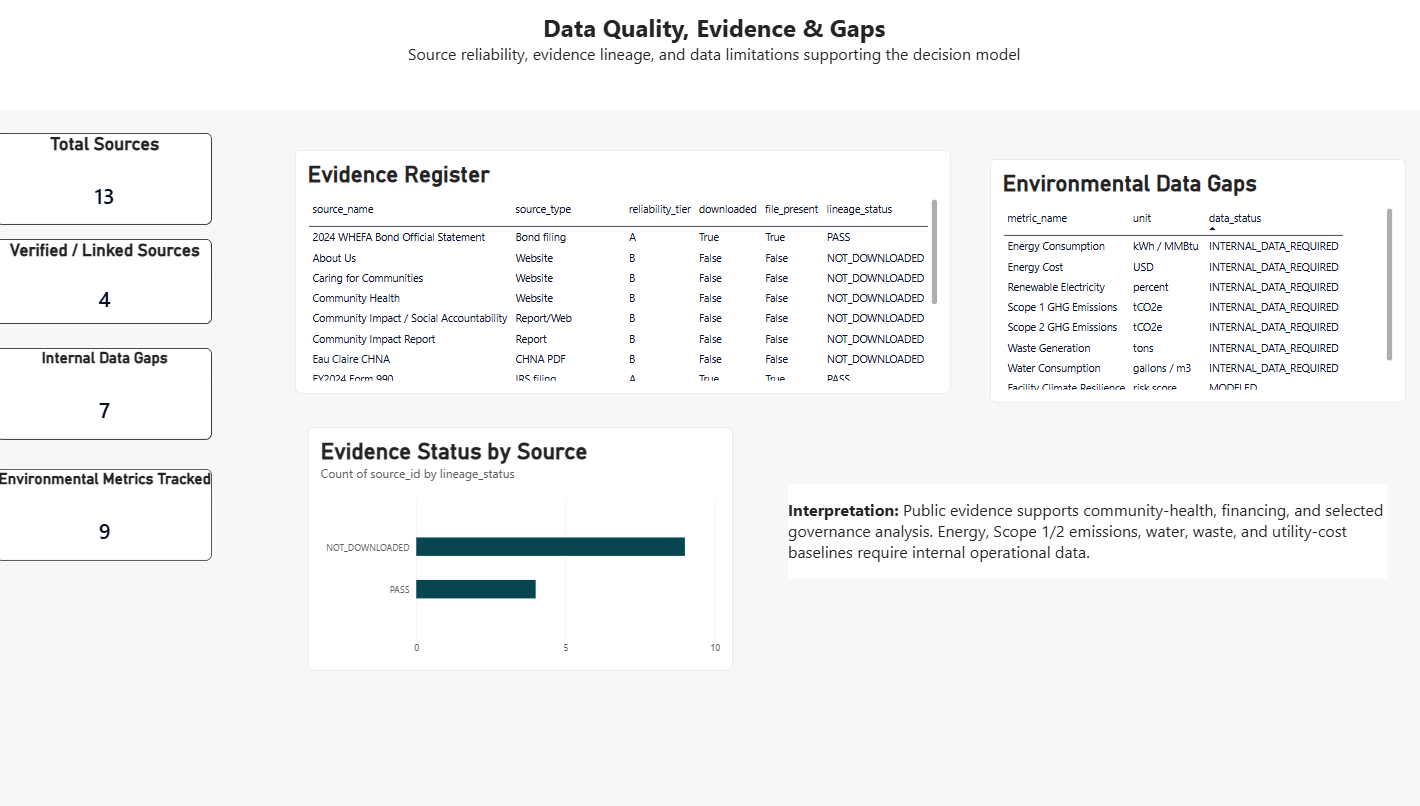

Layout of this report page (visuals, bound fields, positions):
{"tool":"powerbi","page":{"name":"Data Quality, Evidence & Gaps","canvas":[1920,1080],"ordinal":4},"visuals":[{"type":"textbox","box":[9.6,0,1910.4,151.1],"z":0},{"type":"cardVisual","title":"Total Sources","fields":{"Data":["Data_Quality.Total Sources"]},"box":[9.9,182.3,287.4,121.5],"z":1000},{"type":"cardVisual","title":"Verified / Linked Sources","fields":{"Data":["Data_Quality.Verified Sources"]},"box":[9.9,323.6,287.4,113.3],"z":2000},{"type":"cardVisual","title":"Internal Data Gaps","fields":{"Data":["Data_Quality.Internal Data Gaps"]},"box":[9.9,468.1,287.4,121.5],"z":3000},{"type":"tableEx","title":"Evidence Register","fields":{"Values":["Data_Quality.source_name","Data_Quality.source_type","Data_Quality.reliability_tier","Data_Quality.downloaded","Data_Quality.file_present","Data_Quality.lineage_status"]},"box":[407.3,205.3,872.1,323.6],"z":5000},{"type":"cardVisual","title":"Environmental Metrics Tracked","fields":{"Data":["Data_Quality.Environmental Metrics Tracked"]},"box":[9.9,629.1,287.4,121.5],"z":10000},{"type":"textbox","box":[1062.7,648.8,796.6,126.5],"z":11000},{"type":"tableEx","title":"Environmental Data Gaps","fields":{"Values":["environmental_data_gap.metric_name","environmental_data_gap.unit","environmental_data_gap.data_status"]},"box":[1332,216.8,553.5,323.6],"z":11001},{"type":"clusteredBarChart","title":"Evidence Status by Source","fields":{"Category":["Data_Quality.lineage_status"],"Y":["CountNonNull(Data_Quality.source_id)"]},"box":[423.7,573.2,565,323.6],"z":11002}]}

Visuals, with their boxes in screenshot pixels (x1, y1, x2, y2), scaled from the page's 1920x1080 canvas onto the 1420x806 screenshot:
textbox: (x1=7, y1=0, x2=1419, y2=113)
"Total Sources" cardVisual: (x1=7, y1=136, x2=220, y2=227)
"Verified / Linked Sources" cardVisual: (x1=7, y1=242, x2=220, y2=326)
"Internal Data Gaps" cardVisual: (x1=7, y1=349, x2=220, y2=440)
"Evidence Register" tableEx: (x1=301, y1=153, x2=946, y2=395)
"Environmental Metrics Tracked" cardVisual: (x1=7, y1=469, x2=220, y2=560)
textbox: (x1=786, y1=484, x2=1375, y2=579)
"Environmental Data Gaps" tableEx: (x1=985, y1=162, x2=1394, y2=403)
"Evidence Status by Source" clusteredBarChart: (x1=313, y1=428, x2=731, y2=669)
